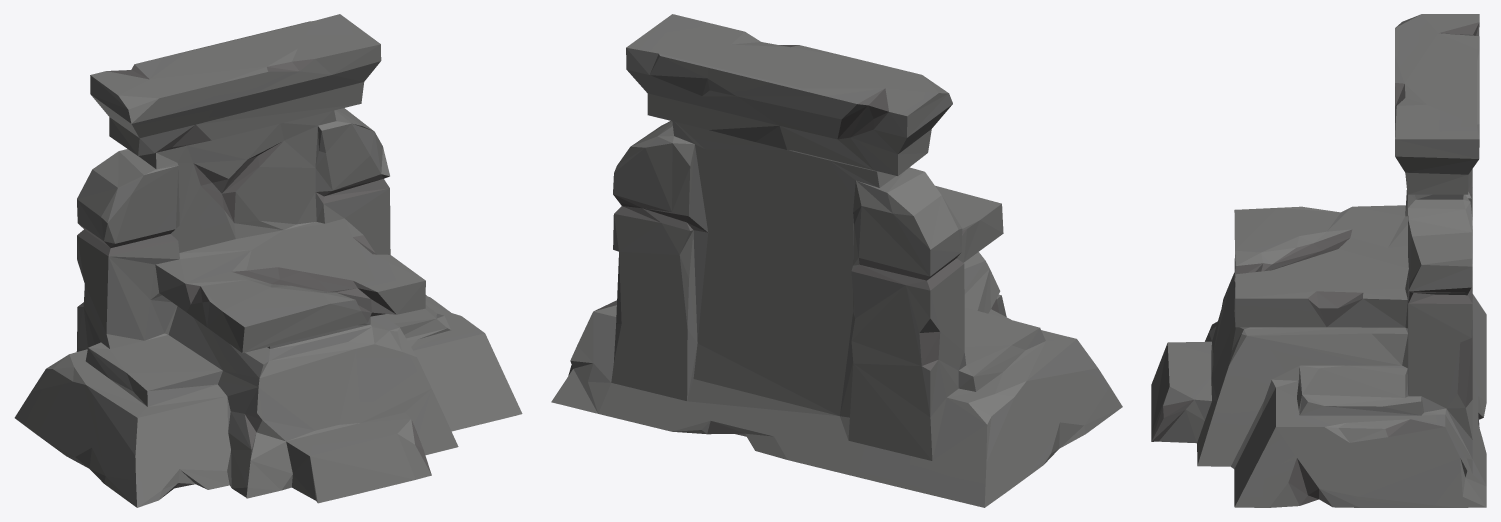
The model's file is SM_Env_Alter_01.glb.
The picture shows the model from 3 angles, left to right: view 1: azimuth 30°, elevation 25°; view 2: azimuth 150°, elevation 25°; view 3: azimuth 270°, elevation 25°; orthographic projection. The views are drawn at different scales.
Parts seen in each view (by area): view 1: SM_Env_Alter_01; view 2: SM_Env_Alter_01; view 3: SM_Env_Alter_01.
Part boxes in pixels (box(x1,y1,x2,y2)): SM_Env_Alter_01: box(14, 14, 522, 507); SM_Env_Alter_01: box(551, 14, 1122, 507); SM_Env_Alter_01: box(1151, 14, 1486, 507).
Size of the model in its own units: 0.0336 by 0.0274 by 0.0247.
1 material, 1 textured.
